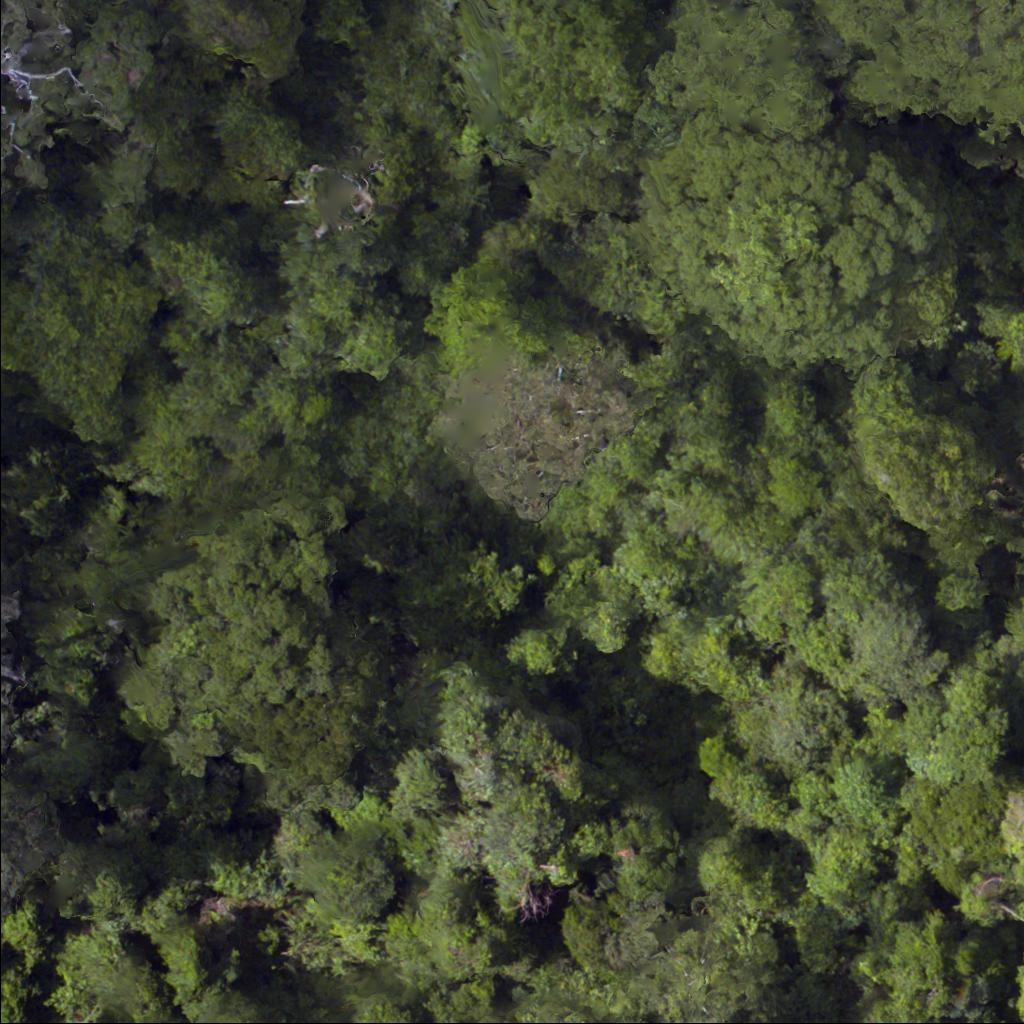crown: (830, 0, 1023, 127)
